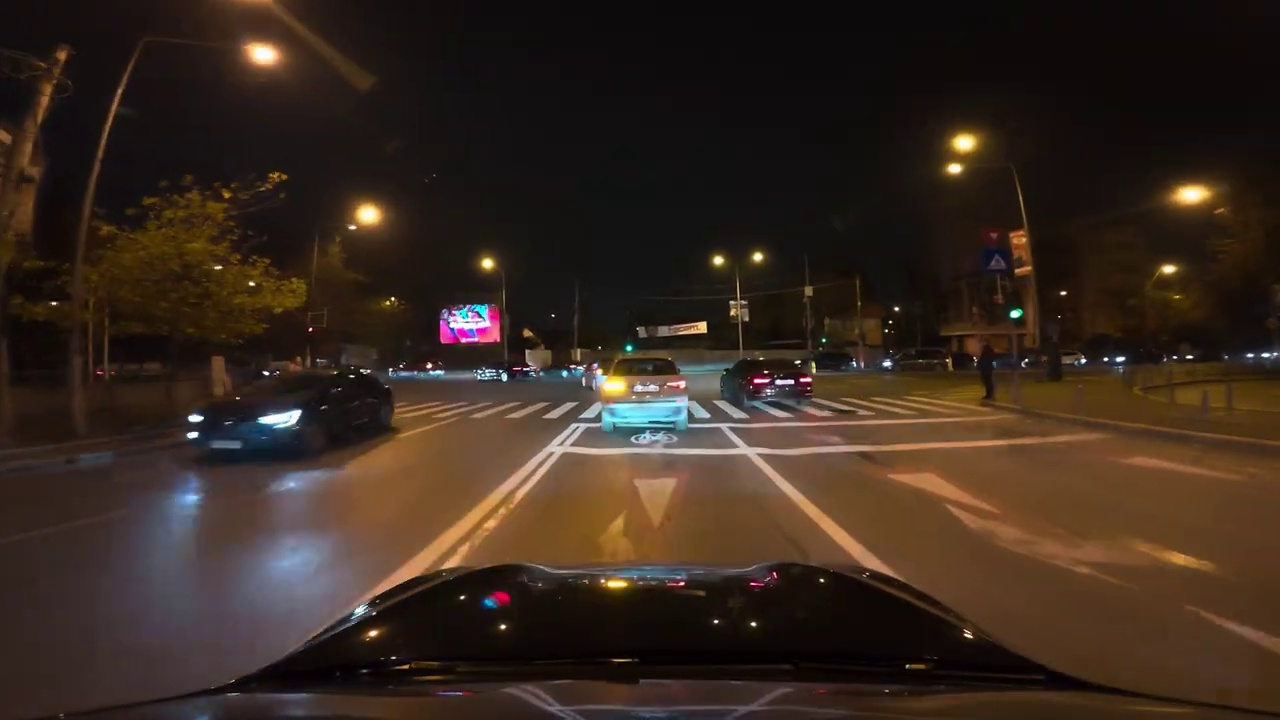acesa: (945, 128, 981, 176), (244, 40, 282, 70), (1171, 183, 1211, 210), (351, 200, 385, 230), (948, 131, 979, 156), (476, 252, 500, 276), (748, 248, 769, 270), (708, 251, 730, 272)
